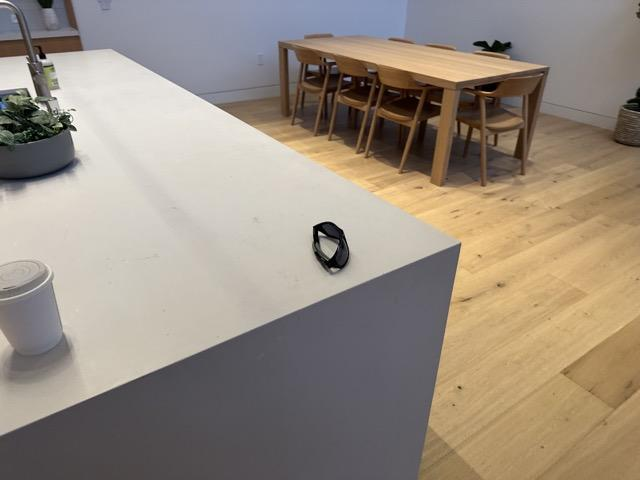Sunglasses: (313, 221, 349, 273)
